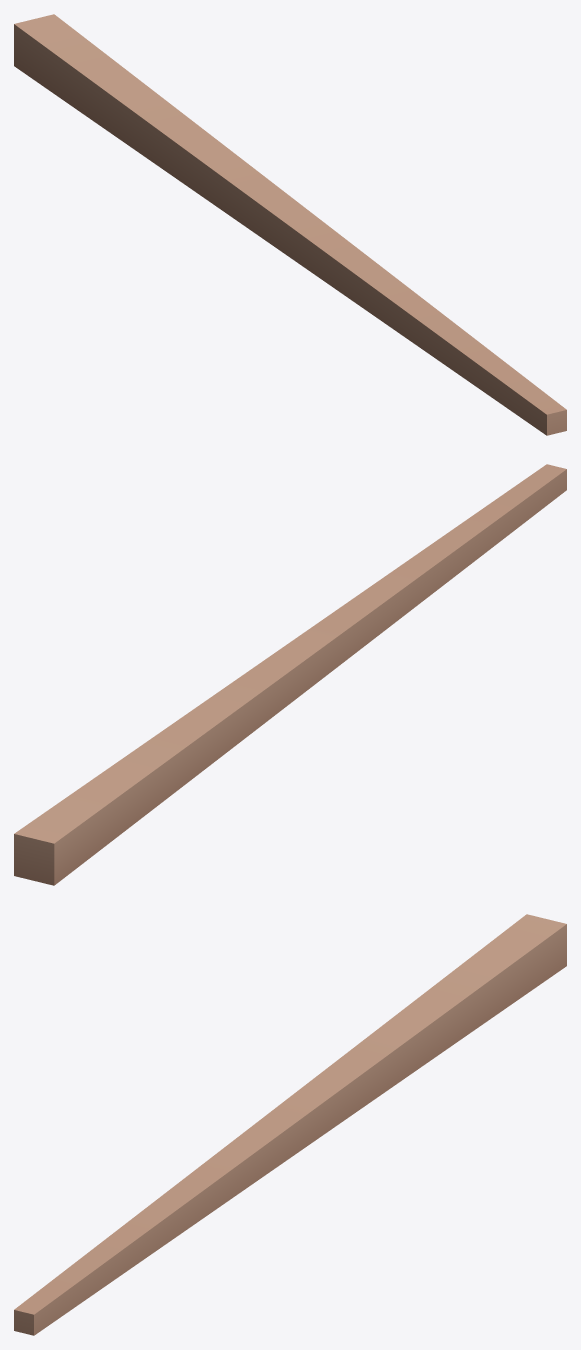
Rendered from chopstick.glb.
3 renders of one model, top to bottom at view 1: azimuth 30°, elevation 25°; view 2: azimuth 150°, elevation 25°; view 3: azimuth 330°, elevation 25°, orthographic.
Parts seen in each view (by area): view 1: chopstick; view 2: chopstick; view 3: chopstick.
Part boxes in pixels (x1=…): chopstick: x1=14, y1=14, x2=566, y2=435; chopstick: x1=14, y1=464, x2=566, y2=885; chopstick: x1=14, y1=914, x2=566, y2=1335.
Size of the model in its own units: 0.02 by 0.02 by 0.45.
